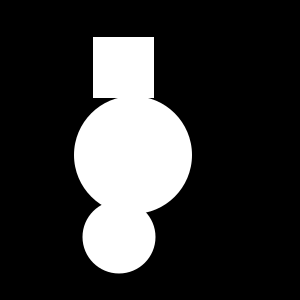circle: (93, 37, 154, 98)
rectangle: (74, 96, 192, 214), (82, 200, 156, 274)
